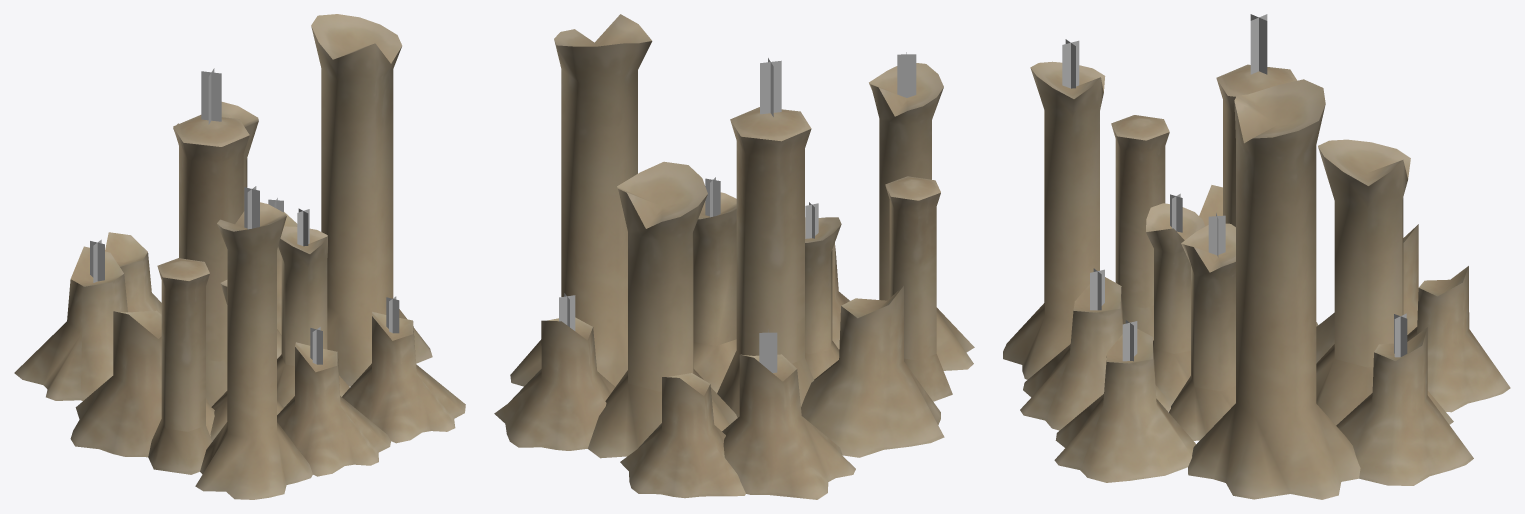
File: SM_Candles_A.fbx
3 views of the same model, side by side, from view 1: azimuth 30°, elevation 25°; view 2: azimuth 150°, elevation 25°; view 3: azimuth 270°, elevation 25° (orthographic). The views are drawn at different scales.
Parts seen in each view (by area): view 1: SM_Candles_A_LOD0; view 2: SM_Candles_A_LOD0; view 3: SM_Candles_A_LOD0.
Part boxes in pixels (x1,y1,x2,y2): SM_Candles_A_LOD0: (14,14,465,499); SM_Candles_A_LOD0: (494,14,974,499); SM_Candles_A_LOD0: (1003,14,1510,499).
Bounding box in the file's own units: 21.3 × 22.9 × 18.3.
2 materials, 1 textured.
